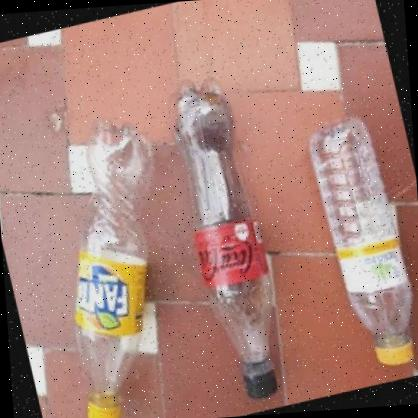bottle: (168, 70, 282, 403), (59, 120, 172, 418), (308, 112, 418, 370)
cap: (243, 362, 279, 398), (374, 338, 416, 366), (84, 396, 123, 418)
label: (72, 243, 153, 339), (192, 216, 270, 290), (337, 235, 407, 295)
